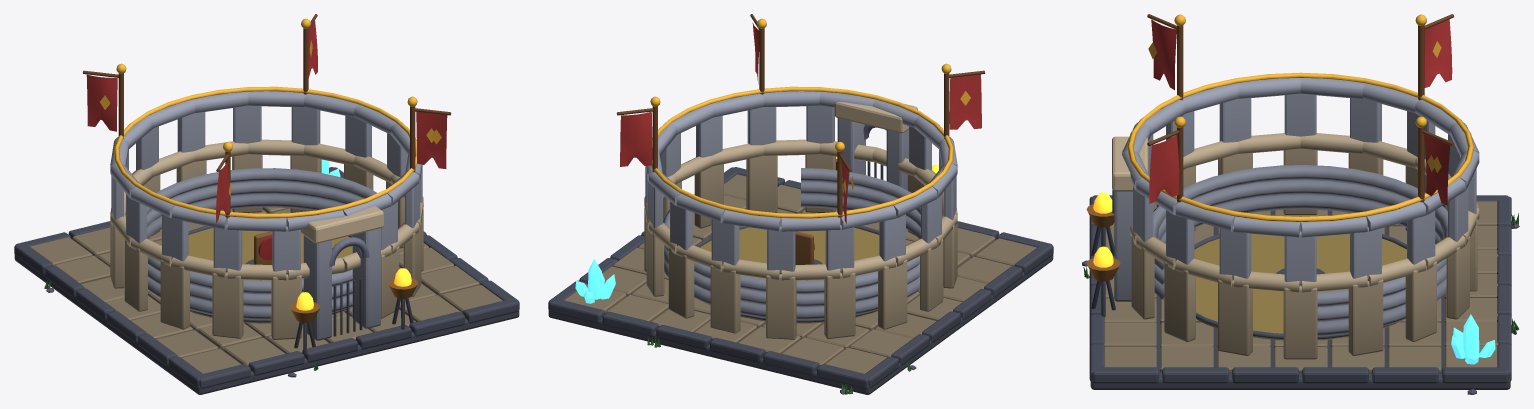
Rendered from arena.glb.
3 renders of one model, left to right at view 1: azimuth 30°, elevation 25°; view 2: azimuth 150°, elevation 25°; view 3: azimuth 270°, elevation 25°, orthographic. The views are drawn at different scales.
Visible parts, largest first — view 1: t0_stone_warm, t0_stone, t0_stone_dark, t0_cloth_red, t2_gold, t0_wood_dark, t0_straw, t0_iron, t1_bronze, t1_iron, t0_gold; view 2: t0_stone_warm, t0_stone, t0_stone_dark, t0_cloth_red, t2_gold, t0_straw, t0_wood_dark, t3_crystal, t0_wood, t0_gold; view 3: t0_stone_warm, t0_stone, t0_stone_dark, t0_straw, t0_cloth_red, t2_gold, t0_wood_dark, t3_crystal, t1_bronze, t1_iron, t0_gold.
Part boxes in pixels (x1=…): t0_stone_warm: x1=30, y1=139, x2=502, y2=373; t0_stone: x1=110, y1=91, x2=422, y2=340; t0_stone_dark: x1=14, y1=167, x2=519, y2=394; t0_cloth_red: x1=86, y1=20, x2=447, y2=260; t2_gold: x1=114, y1=86, x2=417, y2=218; t0_wood_dark: x1=83, y1=14, x2=451, y2=218; t0_straw: x1=188, y1=228, x2=352, y2=323; t0_iron: x1=333, y1=278, x2=362, y2=336; t1_bronze: x1=290, y1=278, x2=417, y2=322; t1_iron: x1=294, y1=298, x2=413, y2=354; t0_gold: x1=100, y1=18, x2=441, y2=196; t0_stone_warm: x1=564, y1=102, x2=1036, y2=373; t0_stone: x1=645, y1=91, x2=957, y2=320; t0_stone_dark: x1=548, y1=124, x2=1053, y2=394; t0_cloth_red: x1=620, y1=23, x2=981, y2=249; t2_gold: x1=651, y1=86, x2=953, y2=218; t0_straw: x1=700, y1=227, x2=879, y2=323; t0_wood_dark: x1=616, y1=14, x2=984, y2=218; t3_crystal: x1=575, y1=259, x2=615, y2=303; t0_wood: x1=795, y1=231, x2=813, y2=264; t0_gold: x1=650, y1=18, x2=970, y2=193; t0_stone_warm: x1=1103, y1=133, x2=1498, y2=372; t0_stone: x1=1114, y1=78, x2=1479, y2=336; t0_stone_dark: x1=1089, y1=190, x2=1511, y2=389; t0_straw: x1=1194, y1=234, x2=1406, y2=340; t0_cloth_red: x1=1149, y1=19, x2=1452, y2=205; t2_gold: x1=1127, y1=72, x2=1474, y2=221; t0_wood_dark: x1=1147, y1=14, x2=1454, y2=202; t3_crystal: x1=1451, y1=314, x2=1495, y2=364; t1_bronze: x1=1086, y1=203, x2=1120, y2=281; t1_iron: x1=1091, y1=226, x2=1115, y2=317; t0_gold: x1=1148, y1=14, x2=1441, y2=172.
Size of the model in its own units: 4.11 by 2.46 by 4.11.
